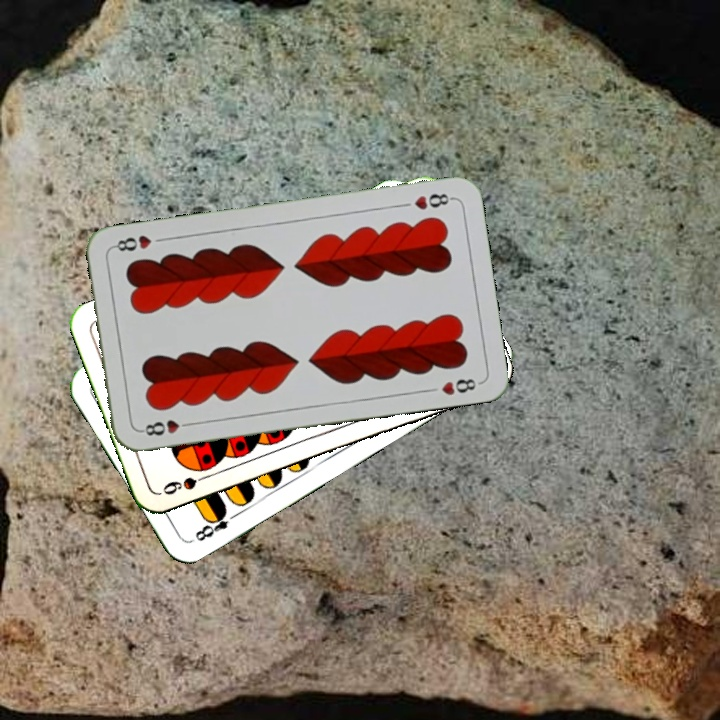E8: (191, 504, 242, 544)
H8: (137, 415, 196, 438), (410, 189, 456, 213)
S9: (158, 469, 216, 498)
